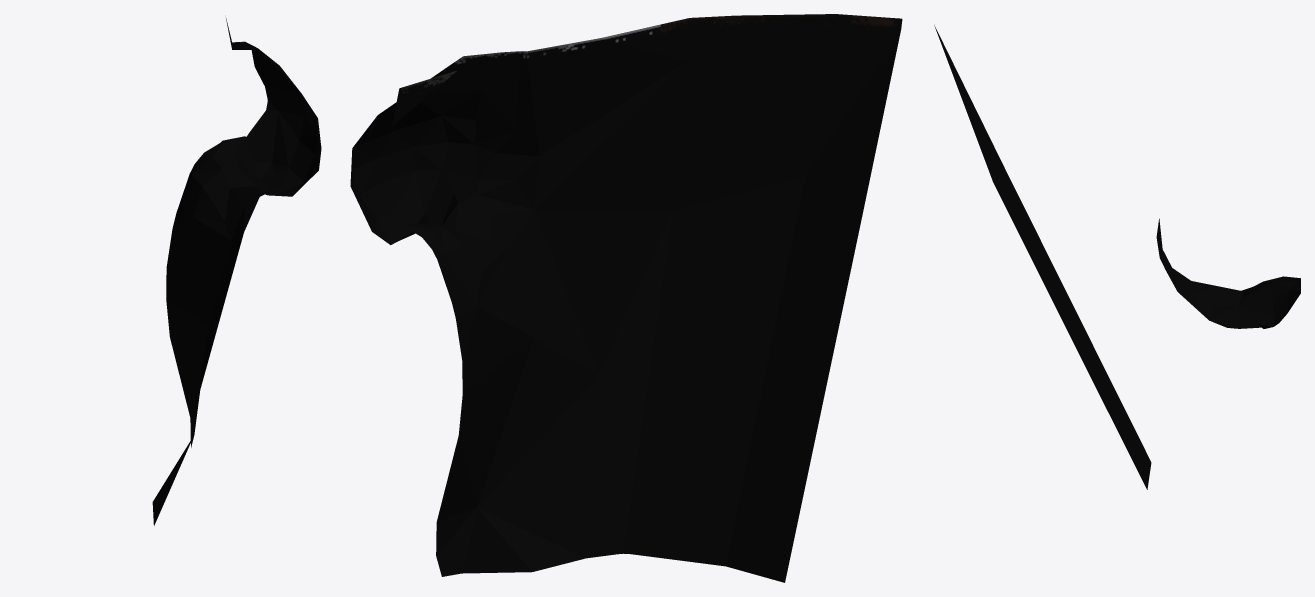
3 views of the same model, side by side, from view 1: azimuth 30°, elevation 25°; view 2: azimuth 150°, elevation 25°; view 3: azimuth 270°, elevation 25° (orthographic). The views are drawn at different scales.
Bounding box in the file's own units: 1.36 × 1.67 × 1.25.
2 materials, 2 textured.
